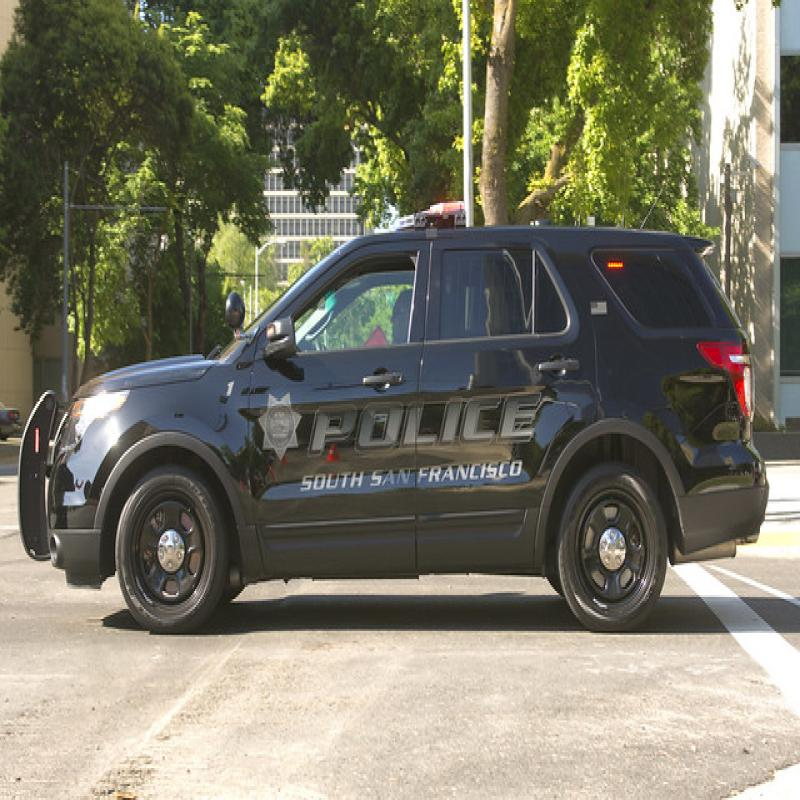AmbulanceSiren: (392, 198, 484, 244)
